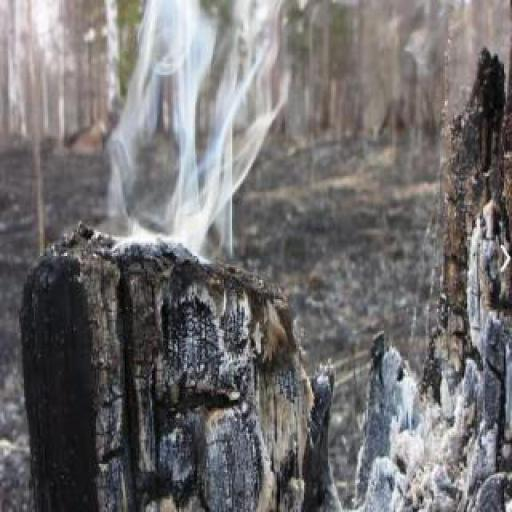smoke: (88, 0, 289, 270)
